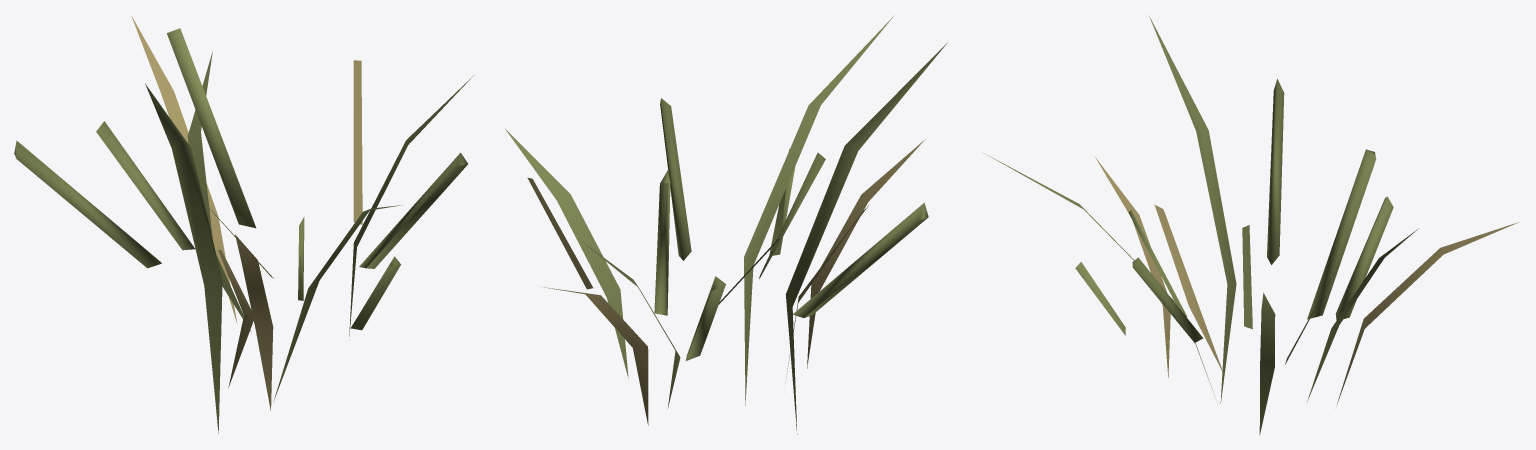
The model's file is Herbes_Incline_LOD2.fbx.
3 renders of one model, left to right at view 1: azimuth 30°, elevation 25°; view 2: azimuth 150°, elevation 25°; view 3: azimuth 270°, elevation 25°, orthographic. The views are drawn at different scales.
Parts seen in each view (by area): view 1: Herbes_Incline_LOD2; view 2: Herbes_Incline_LOD2; view 3: Herbes_Incline_LOD2.
Boxes of the visible parts, left/top/right/bottom form: Herbes_Incline_LOD2: left=14, top=15, right=473, bottom=433; Herbes_Incline_LOD2: left=505, top=15, right=947, bottom=434; Herbes_Incline_LOD2: left=984, top=16, right=1519, bottom=435.
Size of the model in its own units: 74.34 by 64.83 by 92.66.
